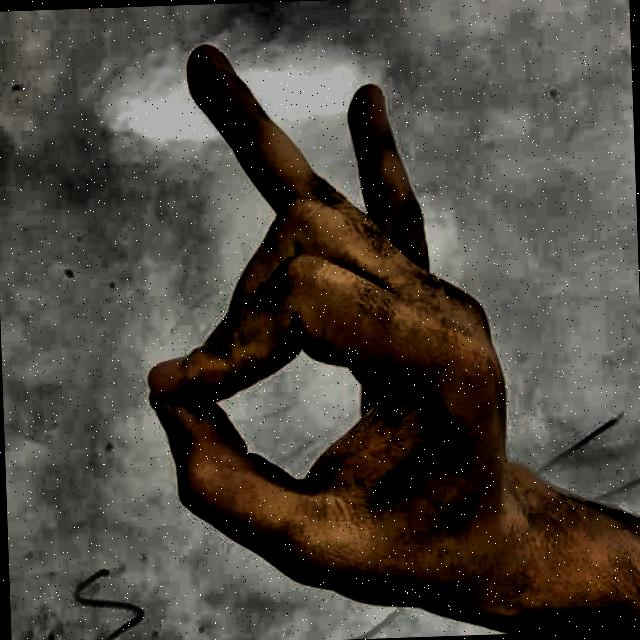Na: (79, 20, 547, 640)
